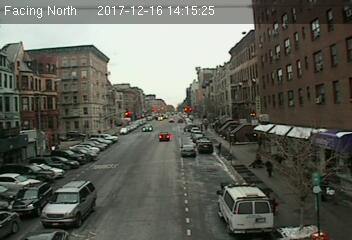car: (39, 178, 98, 228), (7, 182, 52, 218), (180, 144, 197, 157), (197, 140, 212, 154), (159, 132, 171, 142)
police: (216, 180, 275, 234)
